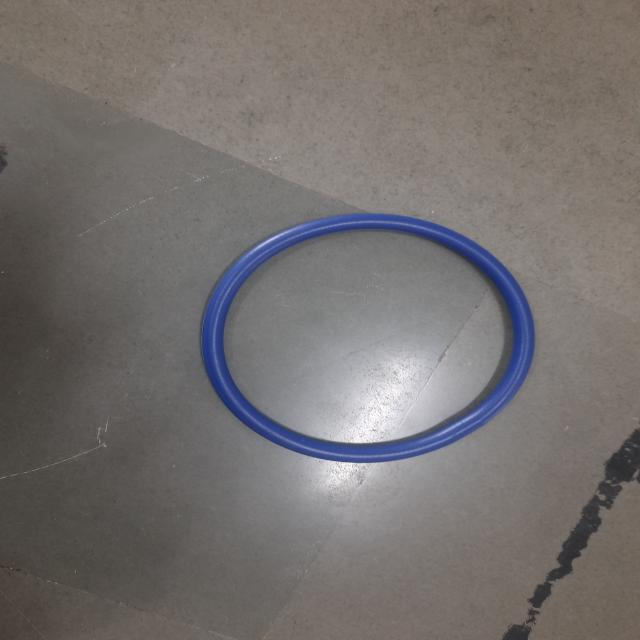daire: (205, 213, 536, 463)
